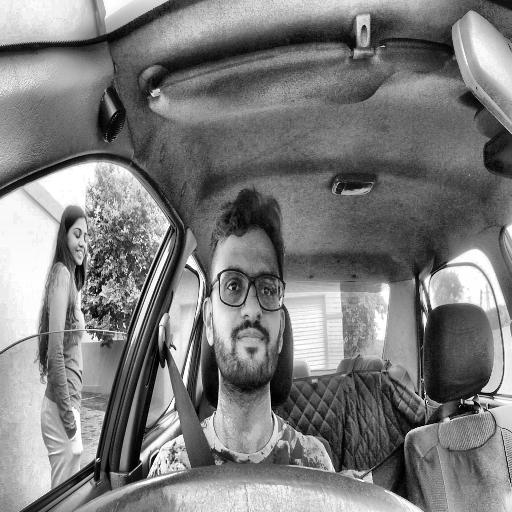awake: (201, 184, 286, 398)
